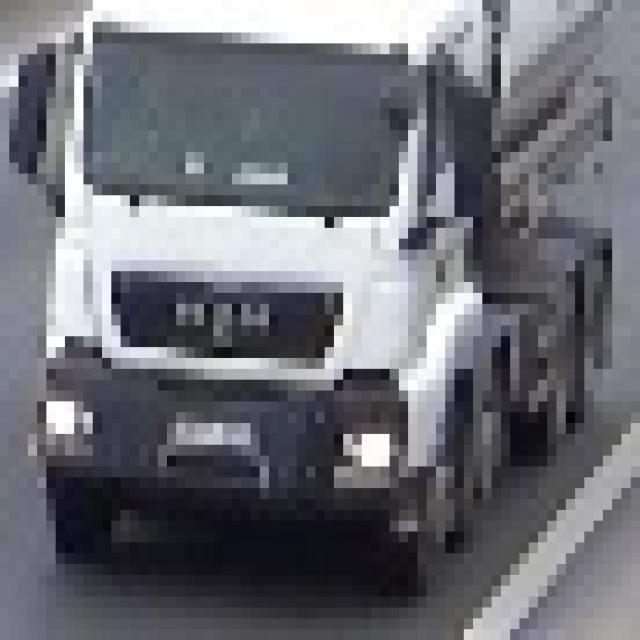truck: (9, 0, 612, 575)
